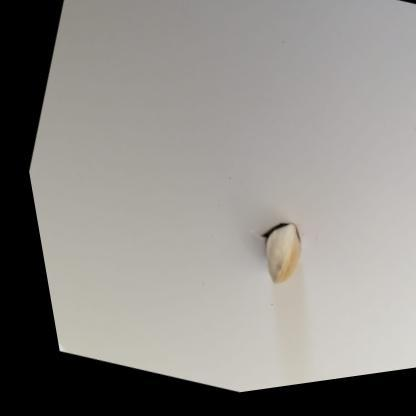pistachio: (260, 215, 305, 283)
